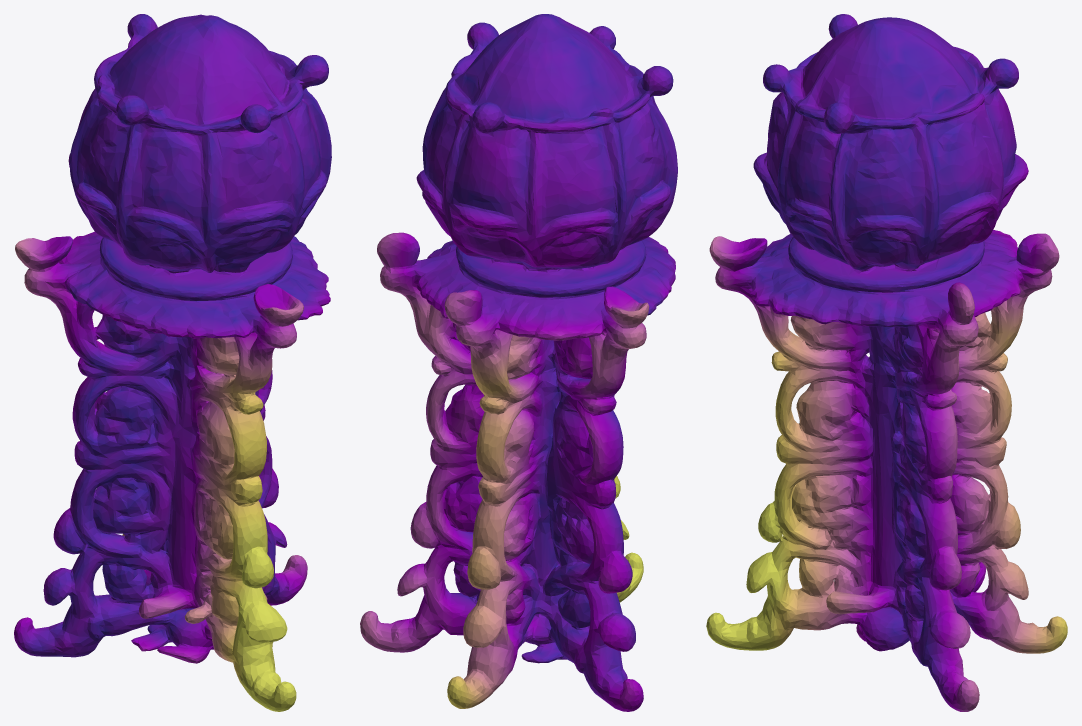
The model's file is iter_18.glb.
3 views of the same model, side by side, from view 1: azimuth 30°, elevation 25°; view 2: azimuth 150°, elevation 25°; view 3: azimuth 270°, elevation 25° (orthographic).
Parts seen in each view (by area): view 1: textured_mesh; view 2: textured_mesh; view 3: textured_mesh.
Boxes of the visible parts, box(x1,y1,x2,y2) form: textured_mesh: box(14, 14, 331, 711); textured_mesh: box(360, 14, 677, 711); textured_mesh: box(706, 14, 1067, 711).
Size of the model in its own units: 0.9393 by 1.99 by 1.03.
